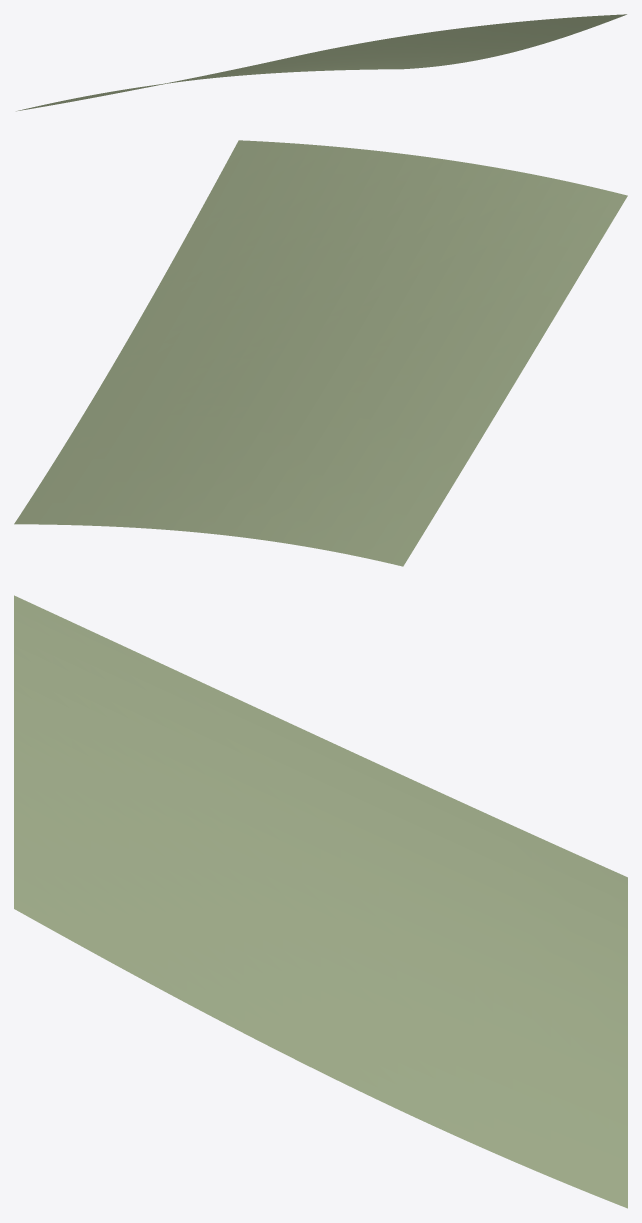
Rendered from alpine-14-7.glb.
3 renders of one model, top to bottom at view 1: azimuth 30°, elevation 25°; view 2: azimuth 150°, elevation 25°; view 3: azimuth 270°, elevation 25°, orthographic. The views are drawn at different scales.
Parts seen in each view (by area): view 1: alpine-14-7; view 2: alpine-14-7; view 3: alpine-14-7.
Boxes of the visible parts, x1,y1,x2,y2 form: alpine-14-7: (16,14,626,111); alpine-14-7: (14,140,627,566); alpine-14-7: (14,595,627,1208).
Bounding box in the file's own units: 256 × 163 × 256.
